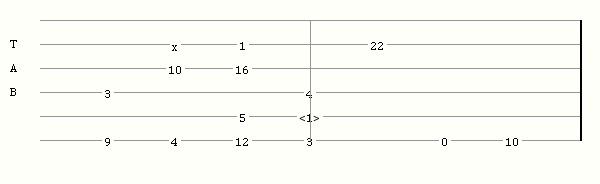0: (441, 134, 452, 146)
1: (239, 38, 250, 50)
10: (168, 62, 186, 74), (505, 134, 523, 146)
12: (235, 134, 253, 146)
16: (235, 62, 253, 74)
22: (370, 38, 388, 50)
3: (104, 86, 115, 98), (306, 134, 317, 146)
4: (171, 134, 182, 146), (306, 86, 317, 98)
5: (239, 110, 250, 122)
9: (104, 134, 115, 146)
harmonic: (299, 110, 324, 122)
x: (172, 39, 182, 49)
